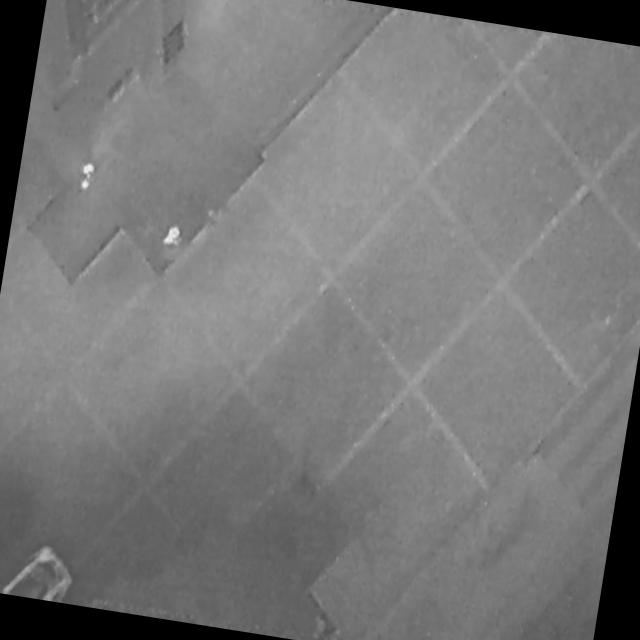person: (158, 219, 188, 255), (79, 158, 98, 194)
